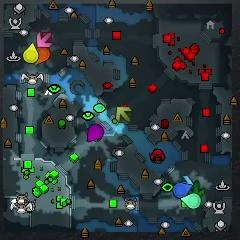p1: (172, 183, 192, 198)
p2: (181, 193, 201, 209)
p3: (87, 123, 104, 141)
p4: (23, 43, 38, 64)
p5: (36, 47, 51, 66)
x1: (37, 32, 52, 47)
x2: (116, 106, 131, 122)
x3: (182, 175, 193, 185)
x4: (189, 181, 205, 196)
